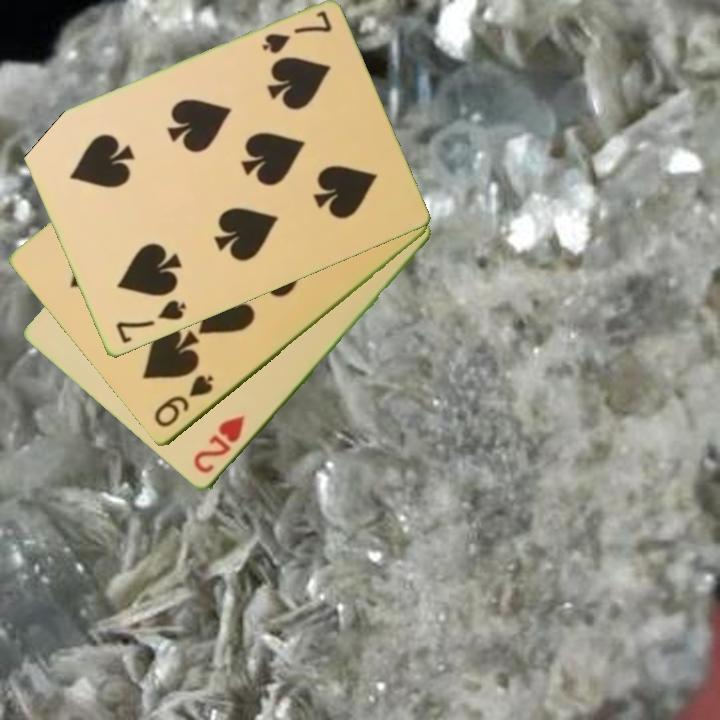2h: (190, 412, 248, 477)
7s: (258, 7, 335, 58), (112, 297, 189, 347)
9s: (150, 371, 217, 431)
